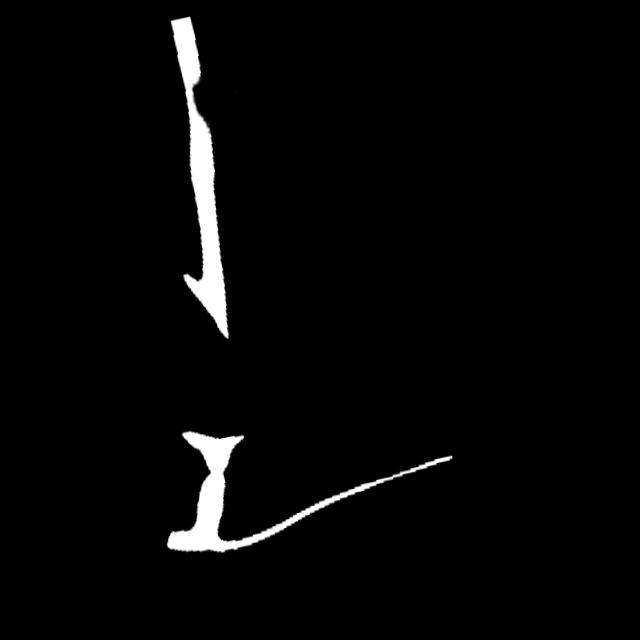sl: (170, 68, 217, 137)
